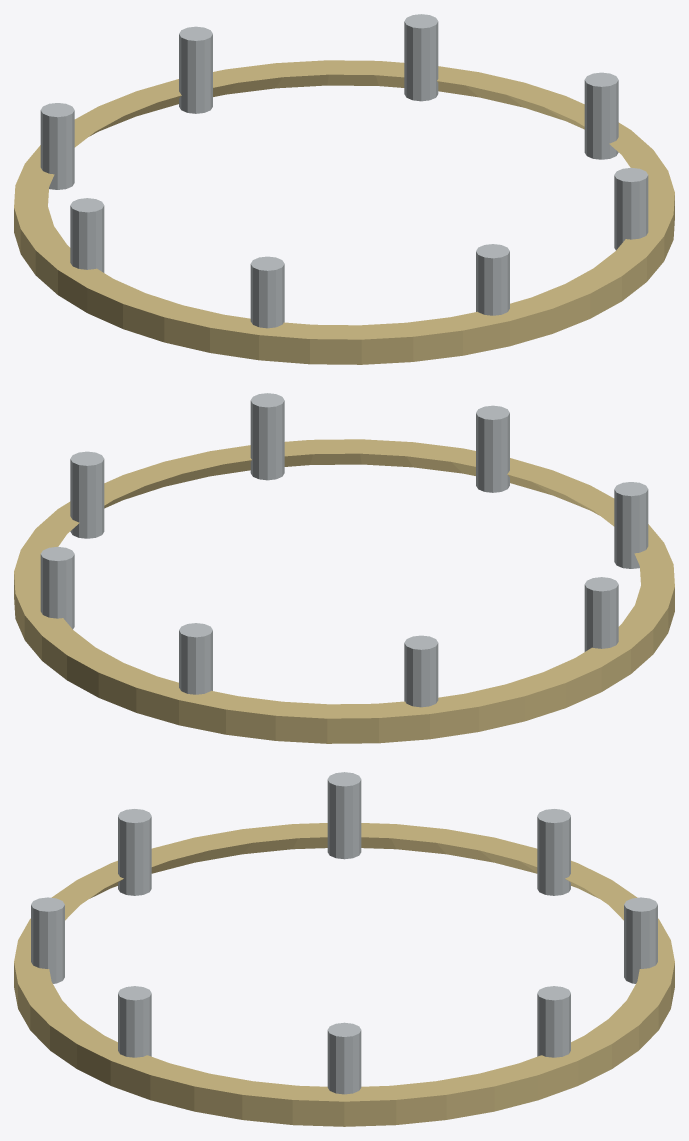
File: 13_L77_BulkDownforceLoadCell.glb
The picture shows the model from 3 angles, top to bottom: view 1: azimuth 30°, elevation 25°; view 2: azimuth 150°, elevation 25°; view 3: azimuth 270°, elevation 25°; orthographic projection.
Parts seen in each view (by area): view 1: BulkDownforceLoadCell_Node_0000, BulkDownforceLoadCell_Node_0008, BulkDownforceLoadCell_Node_0001, BulkDownforceLoadCell_Node_0007, BulkDownforceLoadCell_Node_0006, BulkDownforceLoadCell_Node_0002, BulkDownforceLoadCell_Node_0005, BulkDownforceLoadCell_Node_0004, BulkDownforceLoadCell_Node_0003; view 2: BulkDownforceLoadCell_Node_0000, BulkDownforceLoadCell_Node_0002, BulkDownforceLoadCell_Node_0001, BulkDownforceLoadCell_Node_0003, BulkDownforceLoadCell_Node_0004, BulkDownforceLoadCell_Node_0008, BulkDownforceLoadCell_Node_0005, BulkDownforceLoadCell_Node_0006, BulkDownforceLoadCell_Node_0007; view 3: BulkDownforceLoadCell_Node_0000, BulkDownforceLoadCell_Node_0005, BulkDownforceLoadCell_Node_0004, BulkDownforceLoadCell_Node_0006, BulkDownforceLoadCell_Node_0003, BulkDownforceLoadCell_Node_0007, BulkDownforceLoadCell_Node_0001, BulkDownforceLoadCell_Node_0002, BulkDownforceLoadCell_Node_0008.
Part boxes in pixels (bbox=[...]): BulkDownforceLoadCell_Node_0000: bbox=[14, 60, 674, 364]; BulkDownforceLoadCell_Node_0008: bbox=[404, 14, 438, 101]; BulkDownforceLoadCell_Node_0001: bbox=[584, 72, 618, 159]; BulkDownforceLoadCell_Node_0007: bbox=[179, 26, 212, 113]; BulkDownforceLoadCell_Node_0006: bbox=[40, 103, 74, 189]; BulkDownforceLoadCell_Node_0002: bbox=[614, 167, 648, 250]; BulkDownforceLoadCell_Node_0005: bbox=[70, 198, 104, 272]; BulkDownforceLoadCell_Node_0004: bbox=[250, 256, 284, 328]; BulkDownforceLoadCell_Node_0003: bbox=[476, 244, 509, 315]; BulkDownforceLoadCell_Node_0000: bbox=[14, 439, 674, 743]; BulkDownforceLoadCell_Node_0002: bbox=[250, 393, 284, 480]; BulkDownforceLoadCell_Node_0001: bbox=[70, 451, 104, 538]; BulkDownforceLoadCell_Node_0003: bbox=[476, 405, 509, 492]; BulkDownforceLoadCell_Node_0004: bbox=[614, 482, 648, 568]; BulkDownforceLoadCell_Node_0008: bbox=[40, 546, 74, 629]; BulkDownforceLoadCell_Node_0005: bbox=[584, 577, 618, 651]; BulkDownforceLoadCell_Node_0006: bbox=[404, 635, 438, 707]; BulkDownforceLoadCell_Node_0007: bbox=[179, 623, 212, 694]; BulkDownforceLoadCell_Node_0000: bbox=[14, 823, 674, 1126]; BulkDownforceLoadCell_Node_0005: bbox=[327, 772, 361, 859]; BulkDownforceLoadCell_Node_0004: bbox=[118, 809, 151, 895]; BulkDownforceLoadCell_Node_0006: bbox=[537, 809, 570, 895]; BulkDownforceLoadCell_Node_0003: bbox=[31, 897, 64, 983]; BulkDownforceLoadCell_Node_0007: bbox=[624, 897, 657, 983]; BulkDownforceLoadCell_Node_0001: bbox=[327, 1022, 361, 1094]; BulkDownforceLoadCell_Node_0002: bbox=[118, 986, 151, 1057]; BulkDownforceLoadCell_Node_0008: bbox=[537, 986, 570, 1057].
Bounding box in the file's own units: 2.14 × 0.295 × 2.14.
